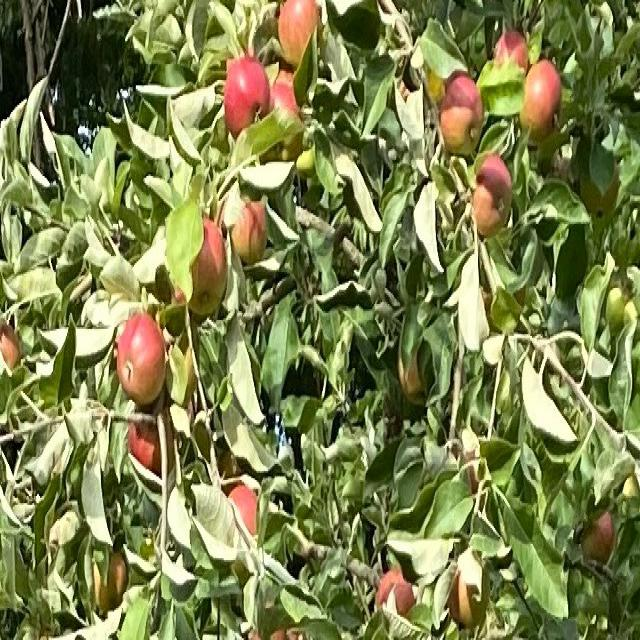Apples: (118, 314, 167, 402), (224, 58, 272, 140), (470, 153, 512, 235), (440, 76, 482, 153), (522, 60, 562, 137), (130, 414, 175, 480), (279, 0, 320, 64), (450, 572, 488, 628), (377, 567, 415, 617), (224, 485, 258, 535), (92, 555, 124, 606), (584, 508, 614, 562), (495, 32, 528, 75), (271, 71, 301, 116), (1, 324, 21, 369)
